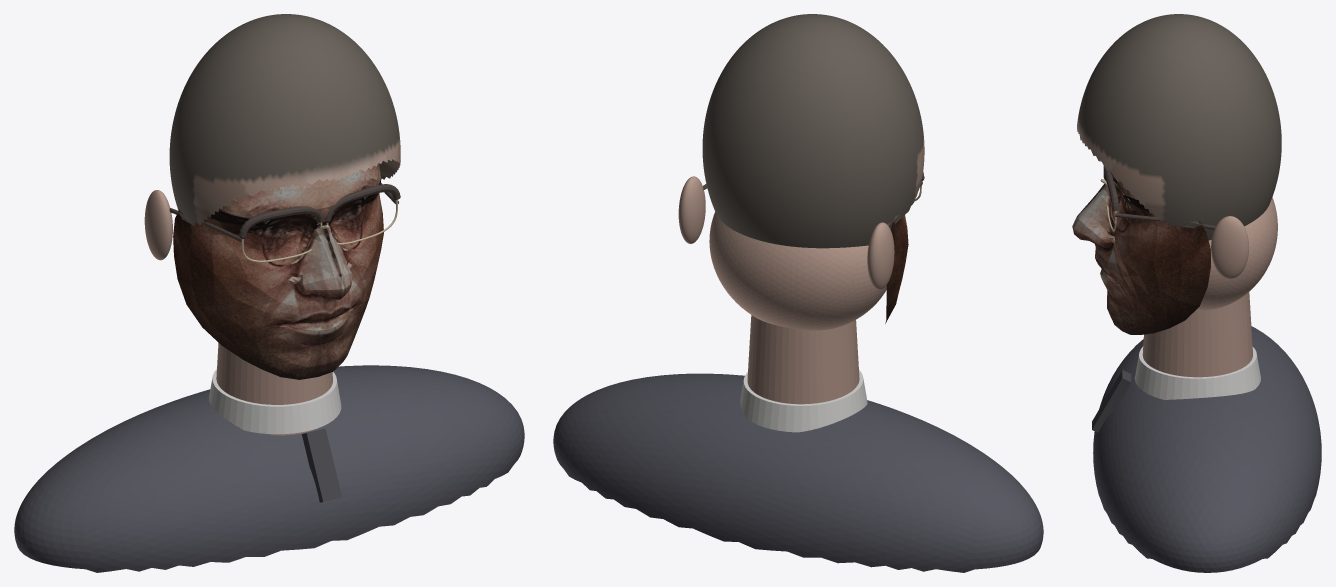
File: malcolm_x.glb
3 renders of one model, left to right at view 1: azimuth 30°, elevation 25°; view 2: azimuth 150°, elevation 25°; view 3: azimuth 270°, elevation 25°, orthographic. The views are drawn at different scales.
Parts seen in each view (by area): view 1: part6, part1, part0, part7, part5, part8, part3, part9, part11; view 2: part6, part1, part2, part5, part7, part3, part4, part0; view 3: part6, part1, part0, part5, part2, part7, part4, part8, part11.
Boxes of the visible parts, <box> form: part6: <box>14,365,524,572</box>; part1: <box>169,14,400,284</box>; part0: <box>173,163,383,379</box>; part7: <box>209,369,341,434</box>; part5: <box>216,343,332,435</box>; part8: <box>302,428,341,502</box>; part3: <box>144,190,172,260</box>; part9: <box>239,206,324,238</box>; part11: <box>325,184,400,222</box>; part6: <box>553,373,1043,572</box>; part1: <box>702,14,924,248</box>; part2: <box>709,212,886,330</box>; part5: <box>747,315,859,404</box>; part7: <box>740,369,867,432</box>; part3: <box>867,222,894,289</box>; part4: <box>678,176,705,243</box>; part0: <box>885,215,908,323</box>; part6: <box>1093,326,1321,572</box>; part1: <box>1077,14,1281,243</box>; part0: <box>1072,167,1210,334</box>; part5: <box>1142,292,1252,377</box>; part2: <box>1195,197,1277,310</box>; part7: <box>1134,346,1260,399</box>; part4: <box>1211,216,1249,278</box>; part8: <box>1092,370,1131,432</box>; part11: <box>1103,168,1119,210</box>.
Bounding box in the file's own units: 0.401 × 0.378 × 0.1919.
1 material, 1 textured.
